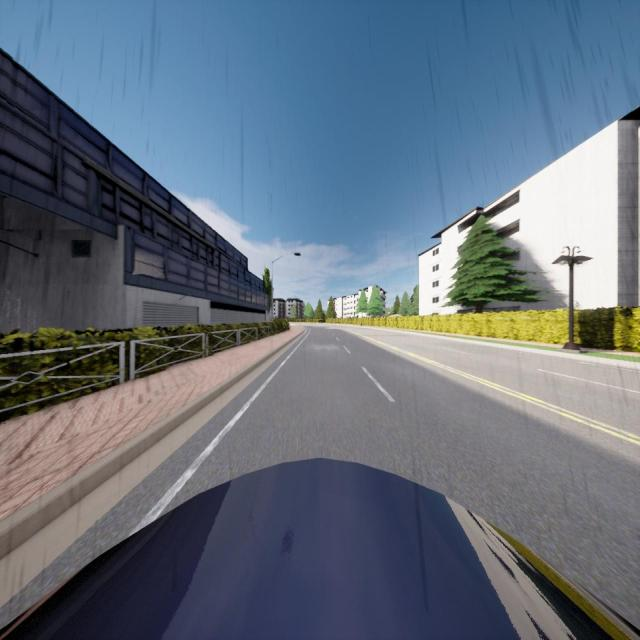Vehicle: (0, 457, 640, 640), (318, 316, 326, 323)
